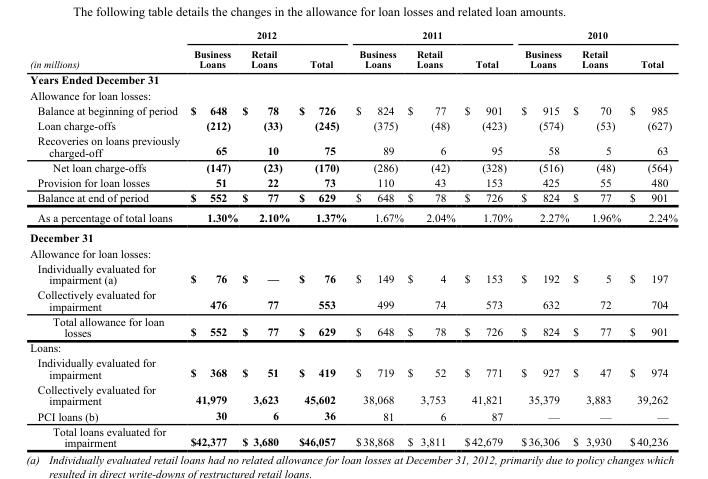table: (29, 29, 677, 448)
table column: (29, 29, 184, 448), (293, 29, 350, 448), (459, 29, 516, 448), (184, 29, 239, 448), (404, 29, 459, 448), (239, 29, 293, 448), (350, 29, 404, 448), (516, 29, 570, 448), (570, 29, 624, 448), (624, 29, 677, 448)
table column header: (29, 29, 677, 71)
table projected row header: (29, 227, 677, 245), (29, 71, 677, 87), (29, 339, 677, 355), (29, 87, 677, 102), (29, 245, 677, 260)
table row: (29, 44, 677, 71), (29, 132, 677, 159), (29, 286, 677, 313), (29, 381, 677, 408), (29, 260, 677, 286), (29, 313, 677, 339), (29, 355, 677, 381), (29, 423, 677, 448), (29, 207, 677, 227), (29, 189, 677, 207), (29, 227, 677, 245), (29, 71, 677, 87), (29, 339, 677, 355), (29, 29, 677, 44), (29, 87, 677, 102), (29, 102, 677, 117), (29, 117, 677, 132), (29, 159, 677, 174), (29, 174, 677, 189), (29, 245, 677, 260), (29, 408, 677, 423)
table spanning cell: (29, 29, 184, 71), (184, 29, 350, 44), (350, 29, 516, 44), (516, 29, 677, 44)
